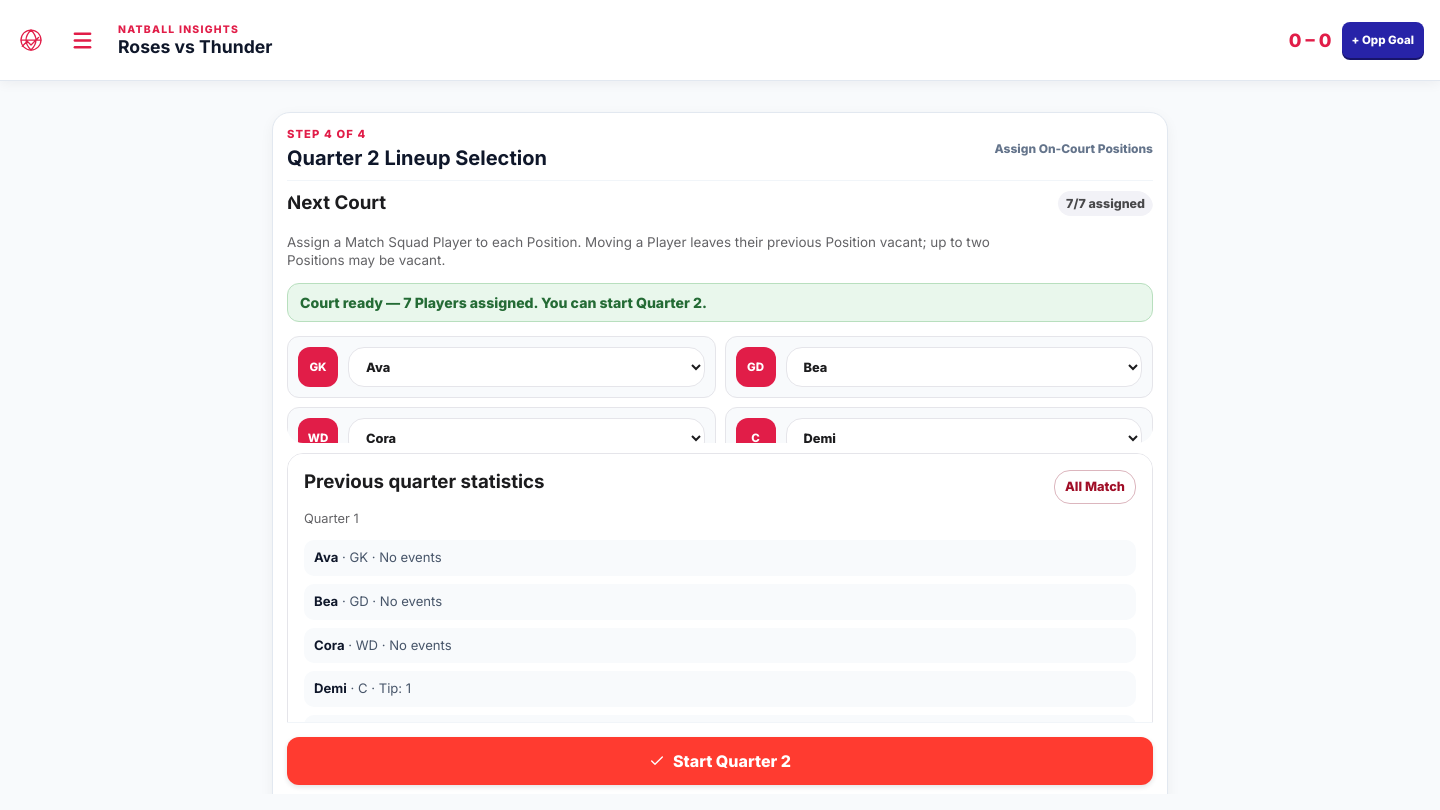
Test: Natball Insights setup › shows switchable previous-quarter and Match statistics beside a prefilled Court
Expected: the heading "Previous quarter statistics" is shown, [304,470,545,492]
Click the button "All Match". click: (1095, 486)
box: [1054,470,1136,504]
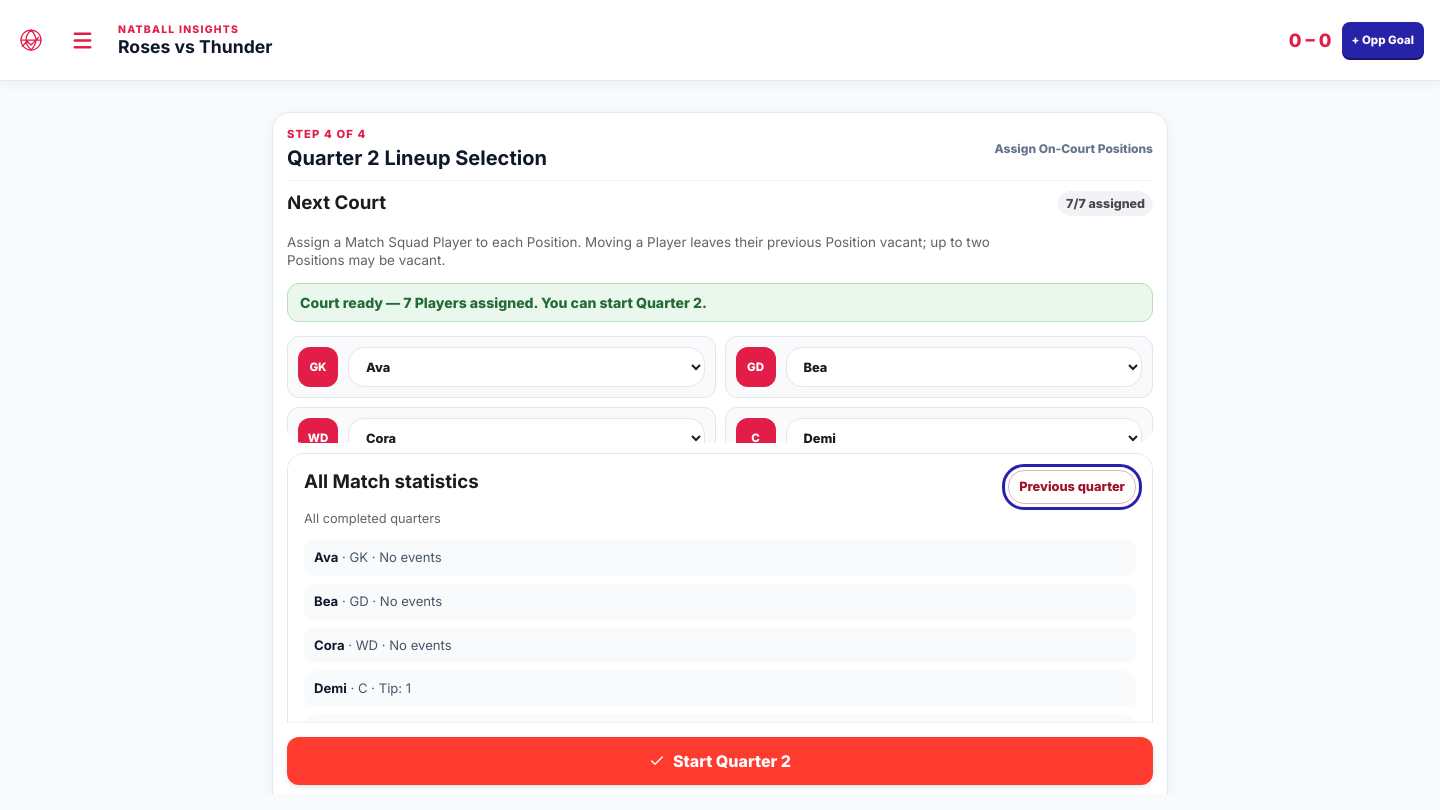
Now the heading "All Match statistics" is shown, box [304,470,479,492]
